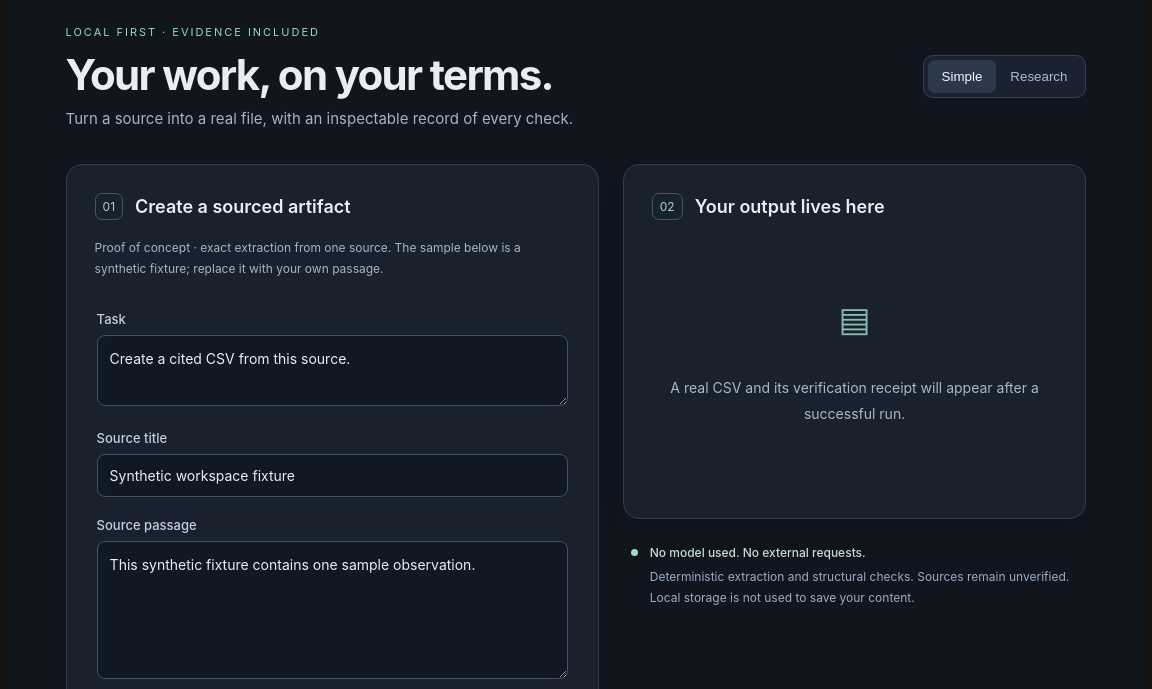
Test: Workspace › runs an editable source through the authenticated API with local privacy
The width and height of the screenshot is (1152, 689).
Step 1. Replace the text in the text box labelled "Source passage" with "The fixture has three rows." → (332, 610), box [97,541,568,679]
(page scrolled)
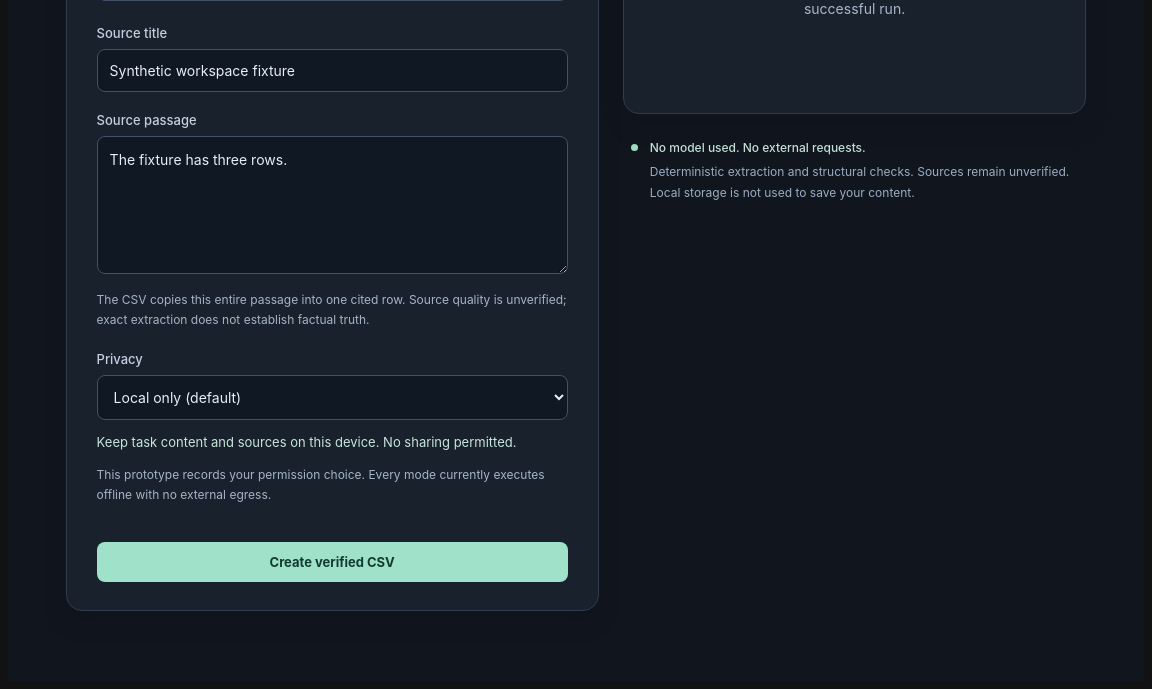
Step 2. Click the button "Create verified CSV" → click(332, 562), box [97,542,568,582]
(page scrolled)
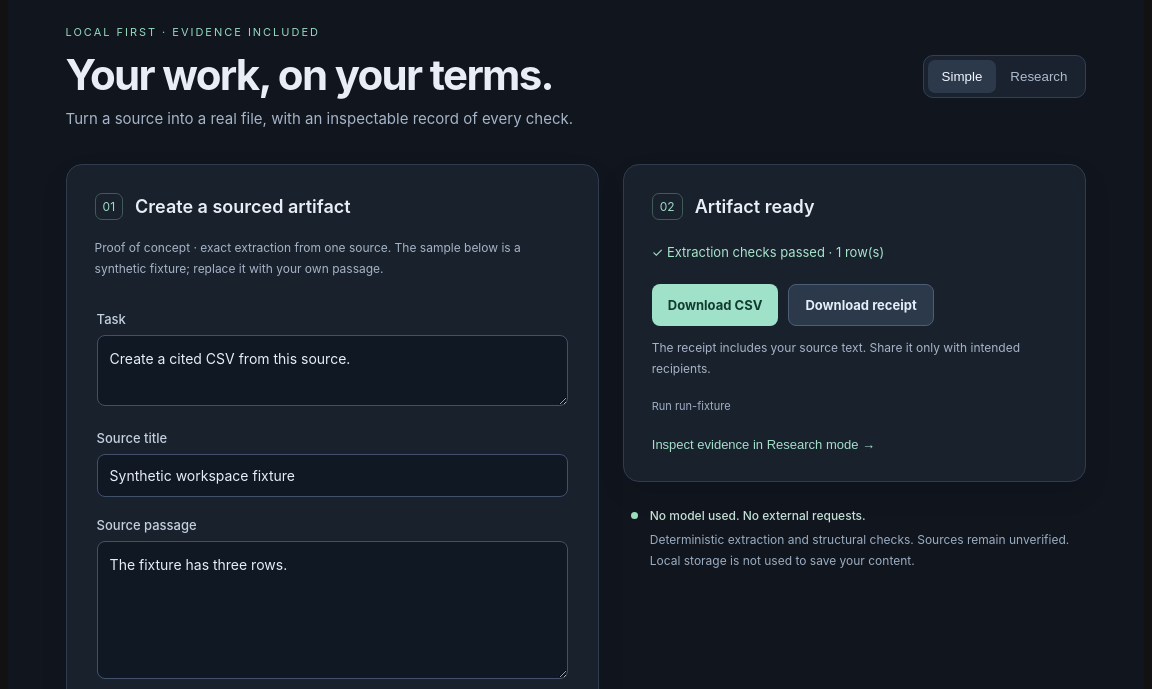
Check: the heading "Artifact ready" is shown, box [695,196,815,217]
Check: the button "Download CSV" is shown, box [652,284,778,326]
Step 3. Click the button "Research" → click(1039, 77), box [996,60,1081,93]
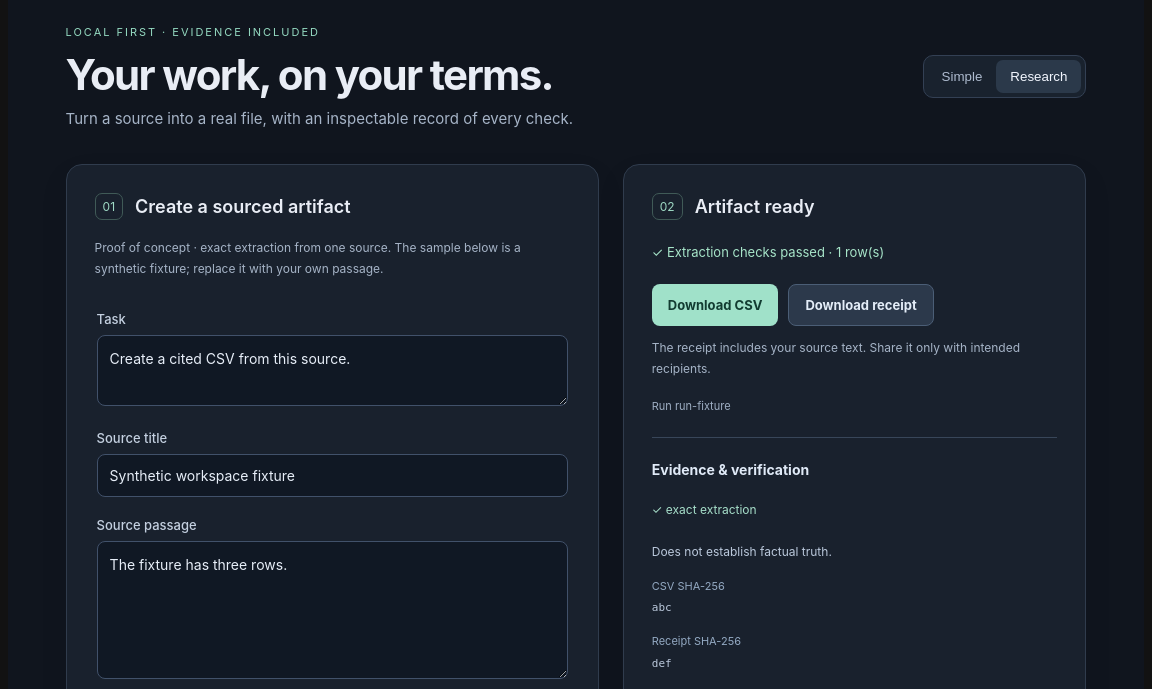
Check: the text "exact extraction" is shown, box [666,502,757,517]
Check: the text "Does not establish factual truth." is shown, box [652,544,832,559]
